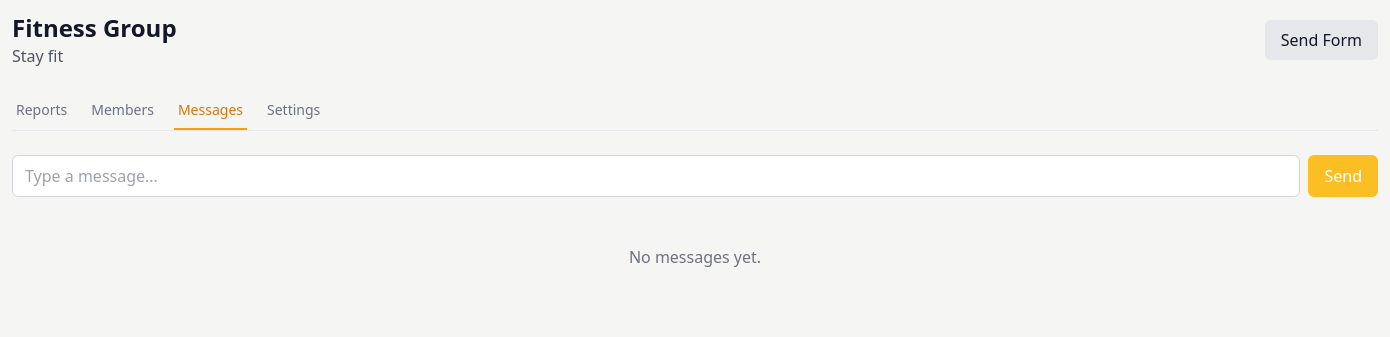
Test: GroupDetail › should switch to members tab
The width and height of the screenshot is (1390, 337).
Expected: the heading "Fitness Group" is shown, [12, 12, 177, 44]
Click the button "Members": (123, 111) [87, 92, 158, 130]
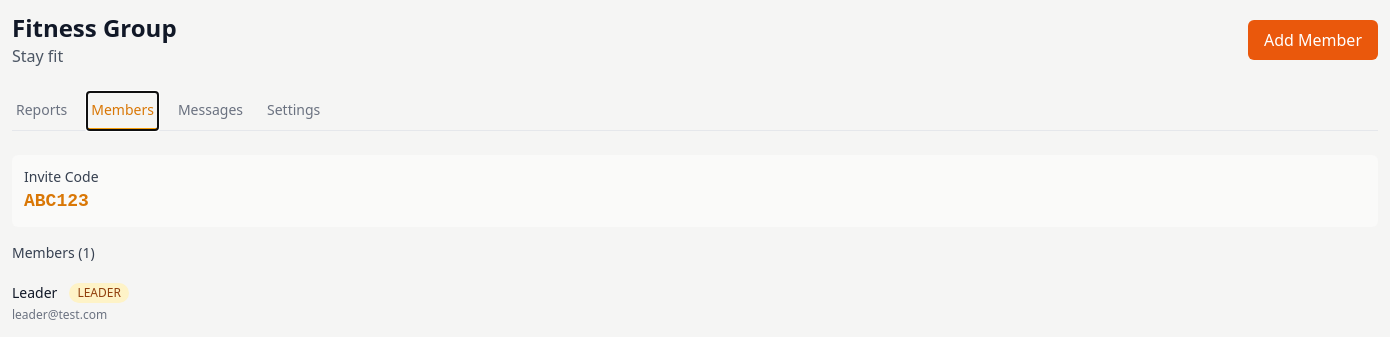
Expected: the text "Leader" is shown, [12, 283, 57, 303]
